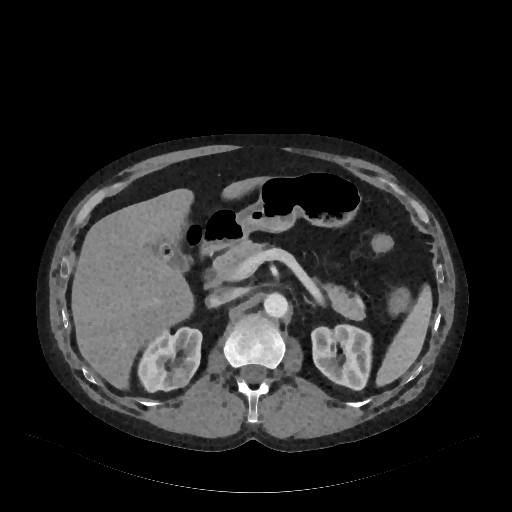Lesion: (166, 359, 194, 387)
